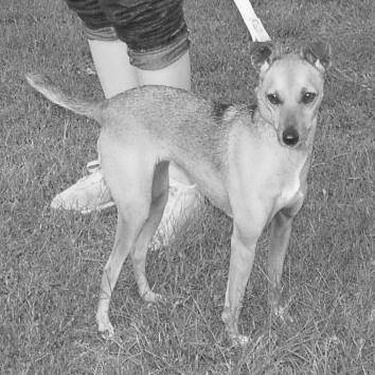dog: (8, 27, 334, 356)
